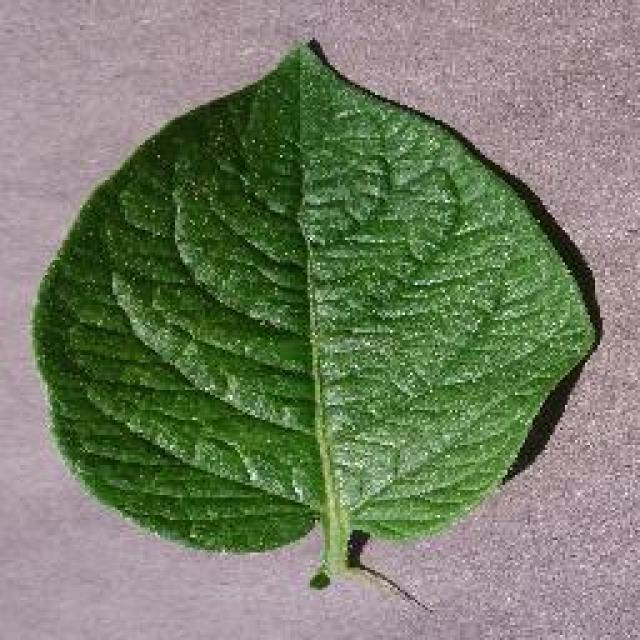Potato: (28, 35, 602, 597)
